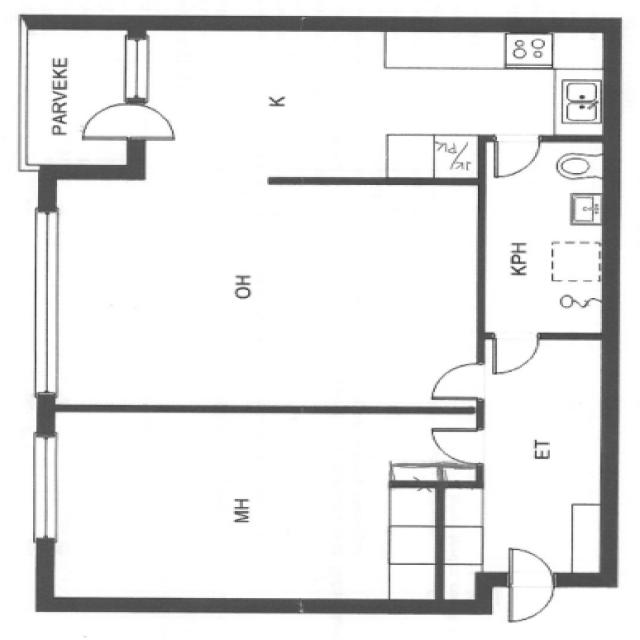door: (498, 543, 556, 625), (73, 100, 174, 143), (420, 356, 490, 405), (483, 329, 544, 376), (423, 423, 487, 466), (487, 132, 543, 179)
window: (30, 203, 63, 396), (24, 424, 66, 546), (115, 30, 156, 109)
zone: (47, 180, 484, 412), (53, 412, 408, 607), (131, 29, 502, 183), (469, 332, 608, 585), (372, 27, 614, 139), (478, 137, 611, 339)
